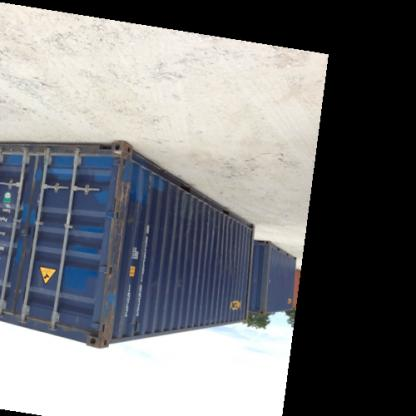Damage: (94, 177, 130, 349)
